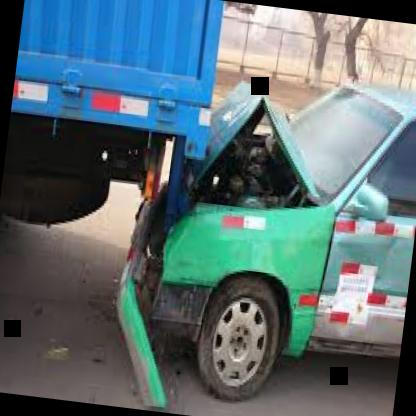accident: (72, 4, 369, 416)
